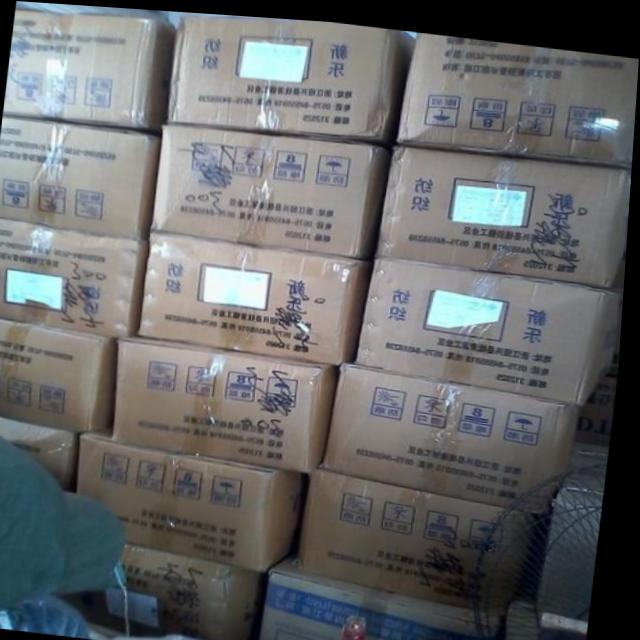box: (360, 251, 627, 397), (328, 359, 587, 506), (304, 465, 558, 609), (379, 139, 631, 281), (396, 27, 639, 169), (83, 428, 314, 569), (165, 13, 415, 142), (154, 120, 396, 253), (140, 229, 375, 361), (116, 335, 343, 469), (269, 551, 510, 640), (4, 8, 176, 131), (67, 542, 274, 640), (0, 116, 161, 240), (0, 218, 152, 337), (0, 318, 121, 433)
